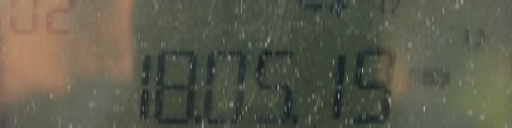0: (201, 37, 254, 126)
1: (133, 47, 157, 128), (330, 45, 350, 128)
5: (251, 36, 298, 128), (351, 42, 396, 128)
8: (155, 39, 203, 128)
d: (288, 110, 303, 125)
